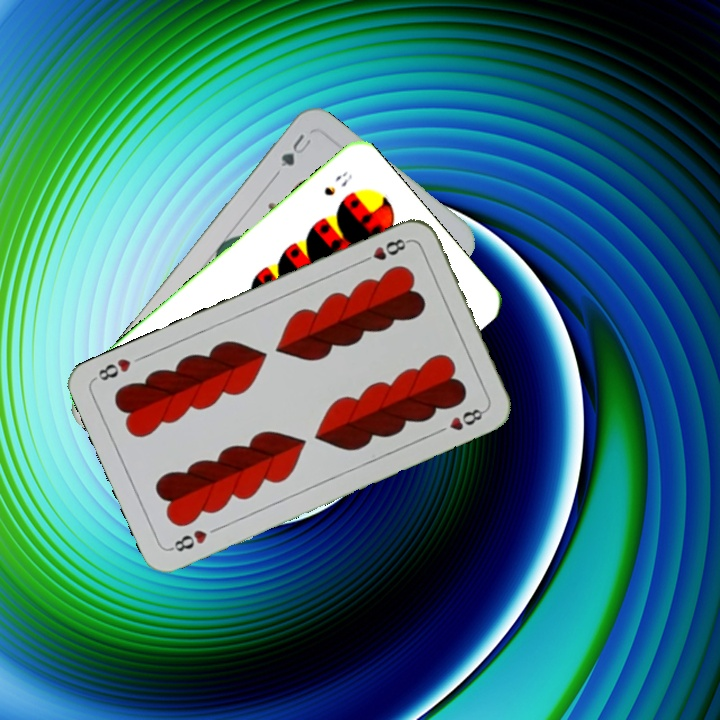GU: (276, 129, 314, 170)
H8: (356, 234, 412, 267), (166, 525, 210, 555)
S8: (320, 168, 355, 199)
